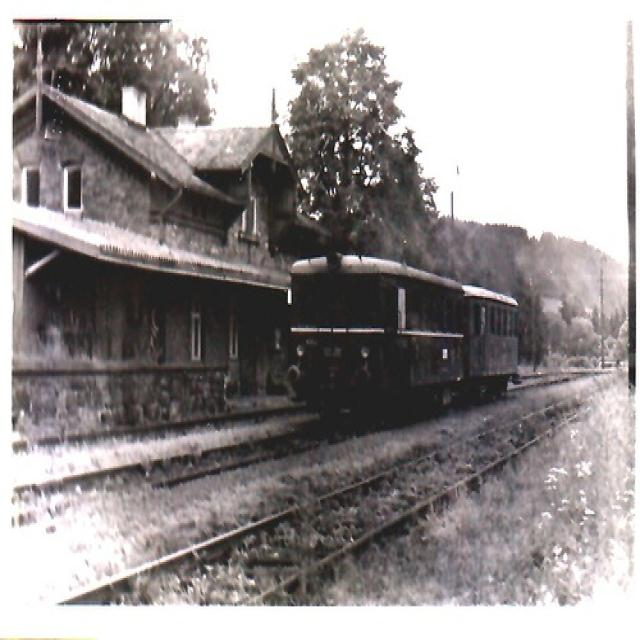train: (297, 257, 523, 418)
